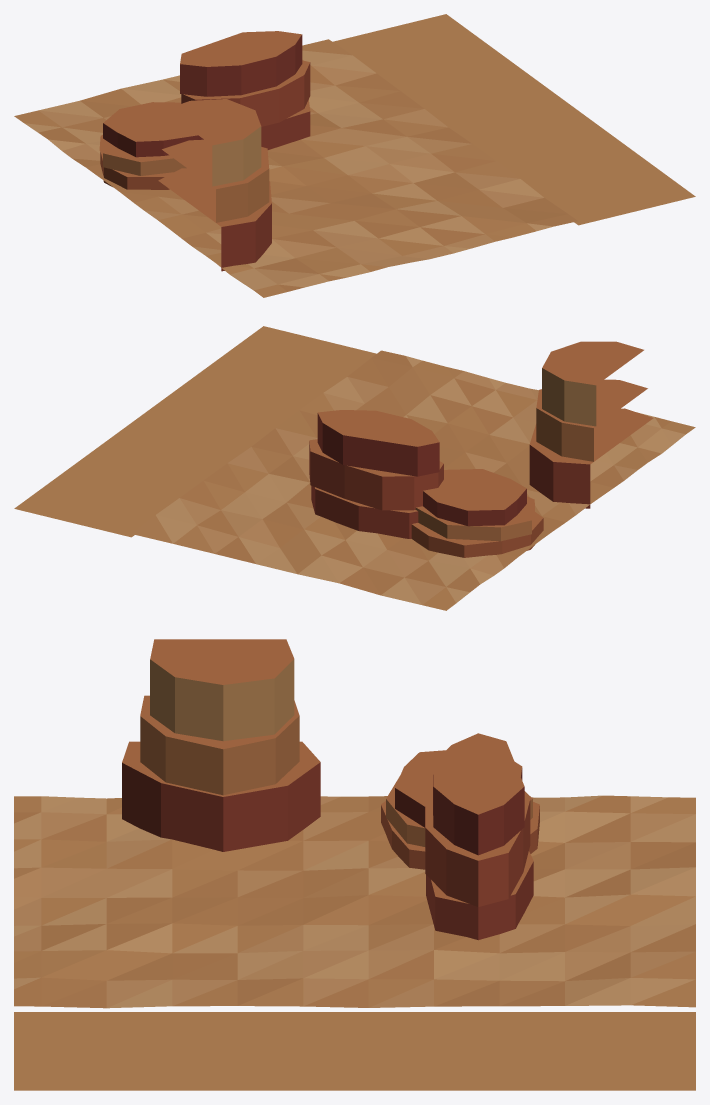
3 renders of one model, top to bottom at view 1: azimuth 30°, elevation 25°; view 2: azimuth 150°, elevation 25°; view 3: azimuth 270°, elevation 25°, orthographic. The views are drawn at different scales.
Parts seen in each view (by area): view 1: baked; view 2: baked; view 3: baked.
Part boxes in pixels (box(x1,y1,x2,y2)): baked: box(14, 14, 695, 297); baked: box(14, 326, 695, 610); baked: box(14, 639, 695, 1090).
Bounding box in the file's own units: 125 × 32.92 × 125.
